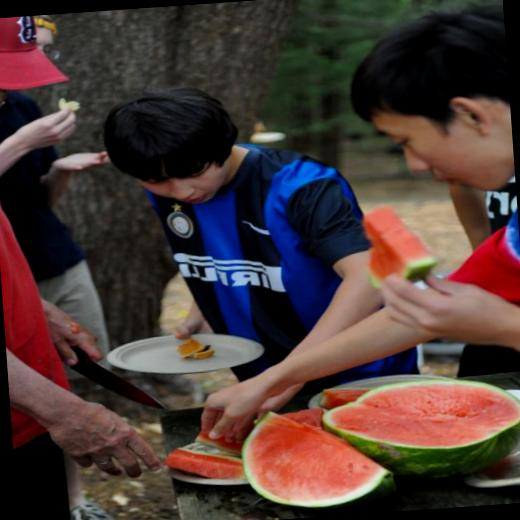Cherry: (319, 370, 520, 487), (245, 399, 392, 516), (356, 199, 438, 290), (164, 440, 242, 485), (192, 429, 243, 458), (317, 385, 373, 409)
